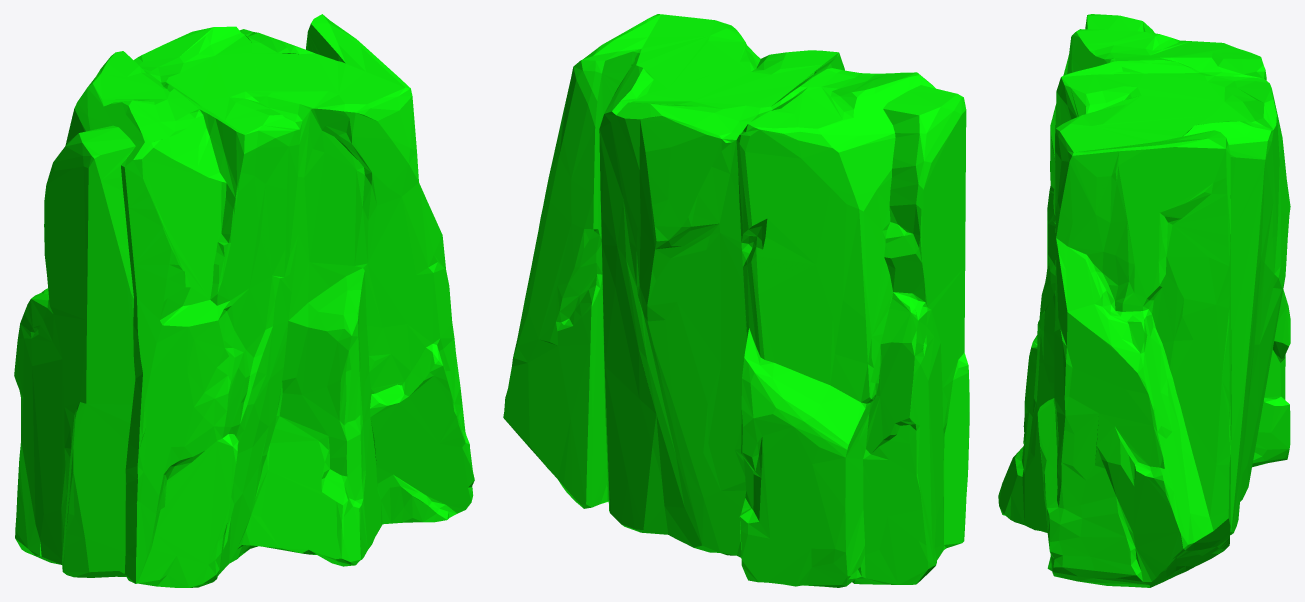
Rendered from SM_Iceberg_Big_B_Rock.fbx.
3 renders of one model, left to right at view 1: azimuth 30°, elevation 25°; view 2: azimuth 150°, elevation 25°; view 3: azimuth 270°, elevation 25°, orthographic. The views are drawn at different scales.
Visible parts, largest first — view 1: SM_Iceberg_Big_B_Rock; view 2: SM_Iceberg_Big_B_Rock; view 3: SM_Iceberg_Big_B_Rock.
Boxes of the visible parts, box(x1,y1,x2,y2) form: SM_Iceberg_Big_B_Rock: box(14, 14, 474, 587); SM_Iceberg_Big_B_Rock: box(503, 14, 969, 587); SM_Iceberg_Big_B_Rock: box(998, 14, 1290, 587).
Bounding box in the file's own units: 23.54 × 24.04 × 15.01.
